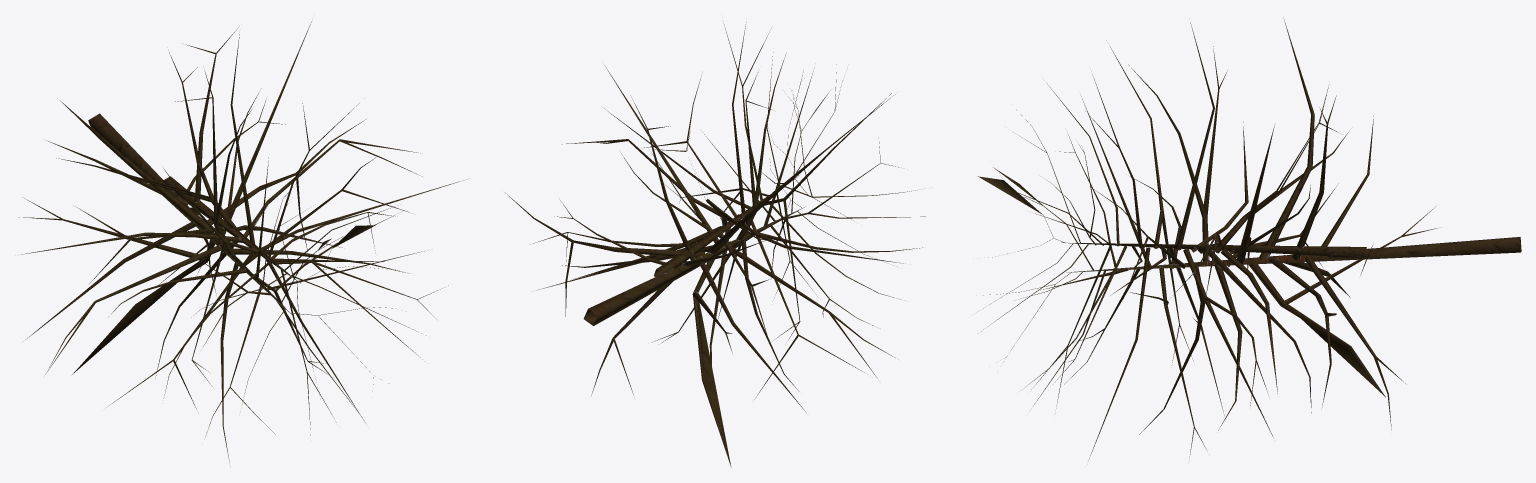
The model's file is Busch_1.fbx.
The picture shows the model from 3 angles, left to right: view 1: azimuth 30°, elevation 25°; view 2: azimuth 150°, elevation 25°; view 3: azimuth 270°, elevation 25°; orthographic projection. The views are drawn at different scales.
Visible parts, largest first — view 1: busch_1; view 2: busch_1; view 3: busch_1.
Boxes of the visible parts, bbox=[...] form: busch_1: bbox=[18, 20, 467, 462]; busch_1: bbox=[505, 22, 925, 467]; busch_1: bbox=[978, 18, 1521, 461].
Size of the model in its own units: 1.12 by 1.11 by 1.28.
1 material, 1 textured.
